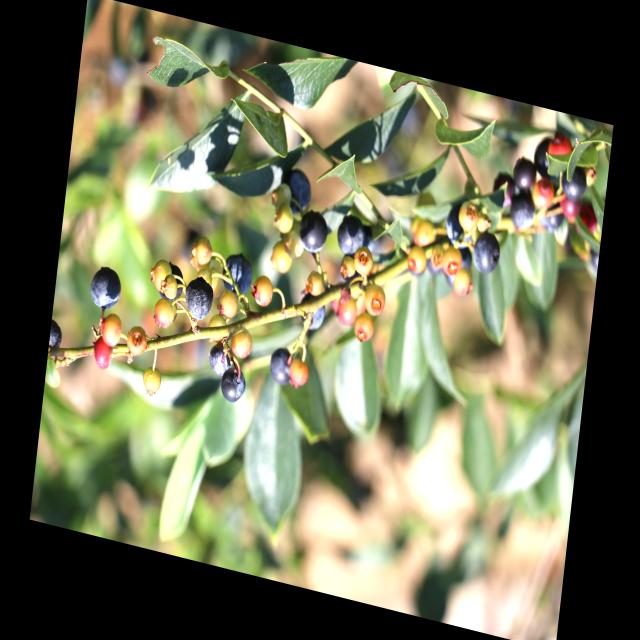blueberry: (85, 260, 126, 319), (280, 166, 314, 217), (185, 272, 217, 326), (298, 207, 330, 255), (228, 250, 257, 302), (336, 212, 367, 259), (444, 205, 473, 251), (471, 233, 502, 276), (297, 289, 326, 334), (159, 261, 188, 304), (531, 139, 561, 180), (267, 344, 294, 387), (220, 366, 247, 406), (560, 166, 588, 202), (510, 193, 535, 230), (511, 157, 537, 191), (208, 342, 231, 378)
blueberry-halfripe: (573, 199, 601, 239), (98, 312, 125, 349), (228, 322, 253, 360), (531, 178, 555, 214), (152, 296, 176, 331), (252, 274, 275, 310), (547, 130, 574, 160), (91, 336, 114, 371), (336, 294, 358, 330), (287, 356, 311, 388), (353, 310, 375, 344), (557, 192, 581, 220)
blueberry-unripe: (404, 243, 430, 280), (189, 236, 215, 271), (269, 237, 292, 275), (456, 199, 480, 234), (362, 282, 386, 317), (151, 256, 172, 294), (440, 246, 464, 278), (413, 216, 437, 248), (128, 322, 148, 358), (141, 363, 162, 397), (352, 246, 375, 277), (215, 289, 238, 320), (450, 266, 472, 298), (205, 312, 227, 342), (273, 179, 293, 209), (277, 208, 294, 235), (339, 254, 356, 279), (288, 233, 303, 261)
